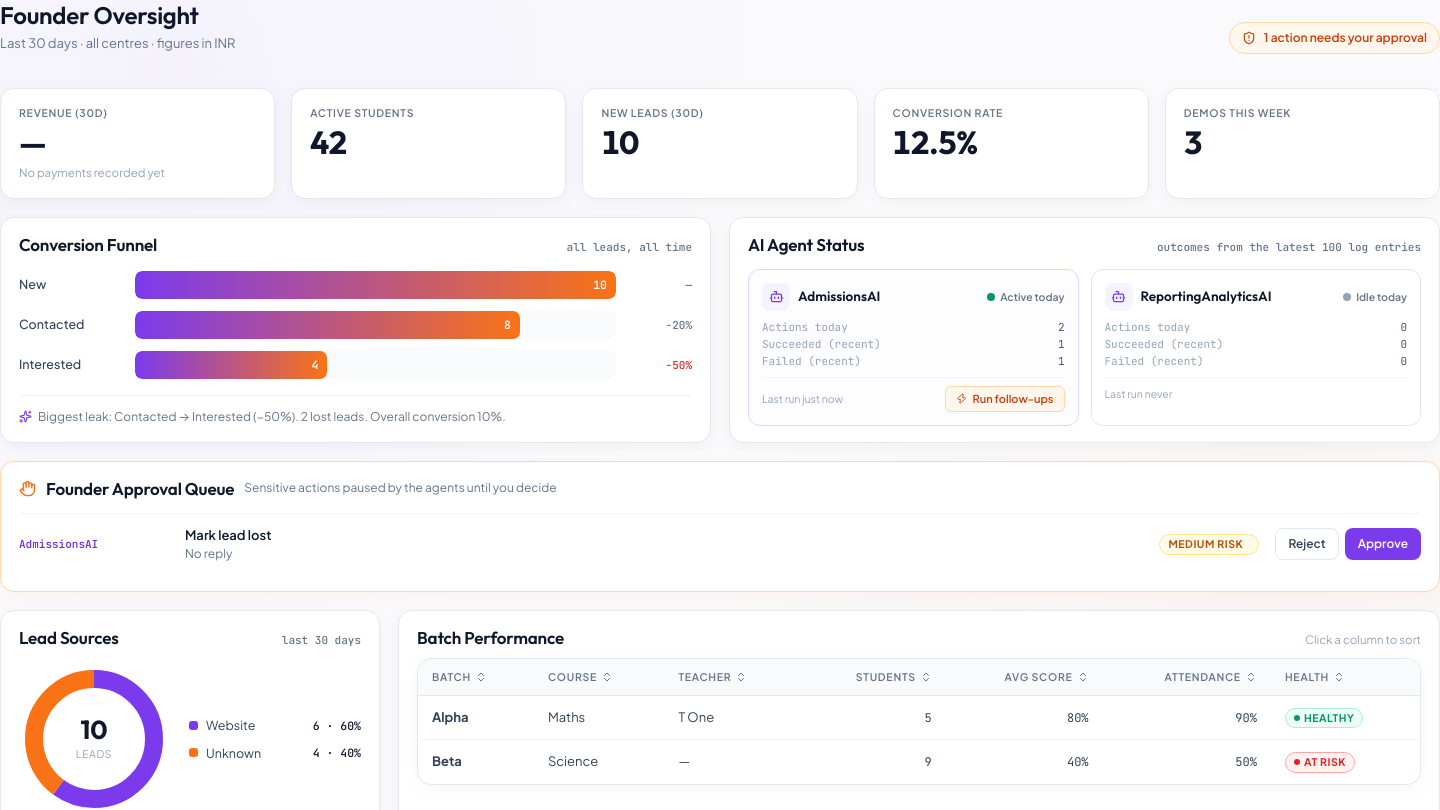
Test: OverviewView › surfaces a server failure when the decision errors
Click the button with aria-label "Approve: Mark lead lost" at (1383, 544), box [1345, 528, 1421, 560]
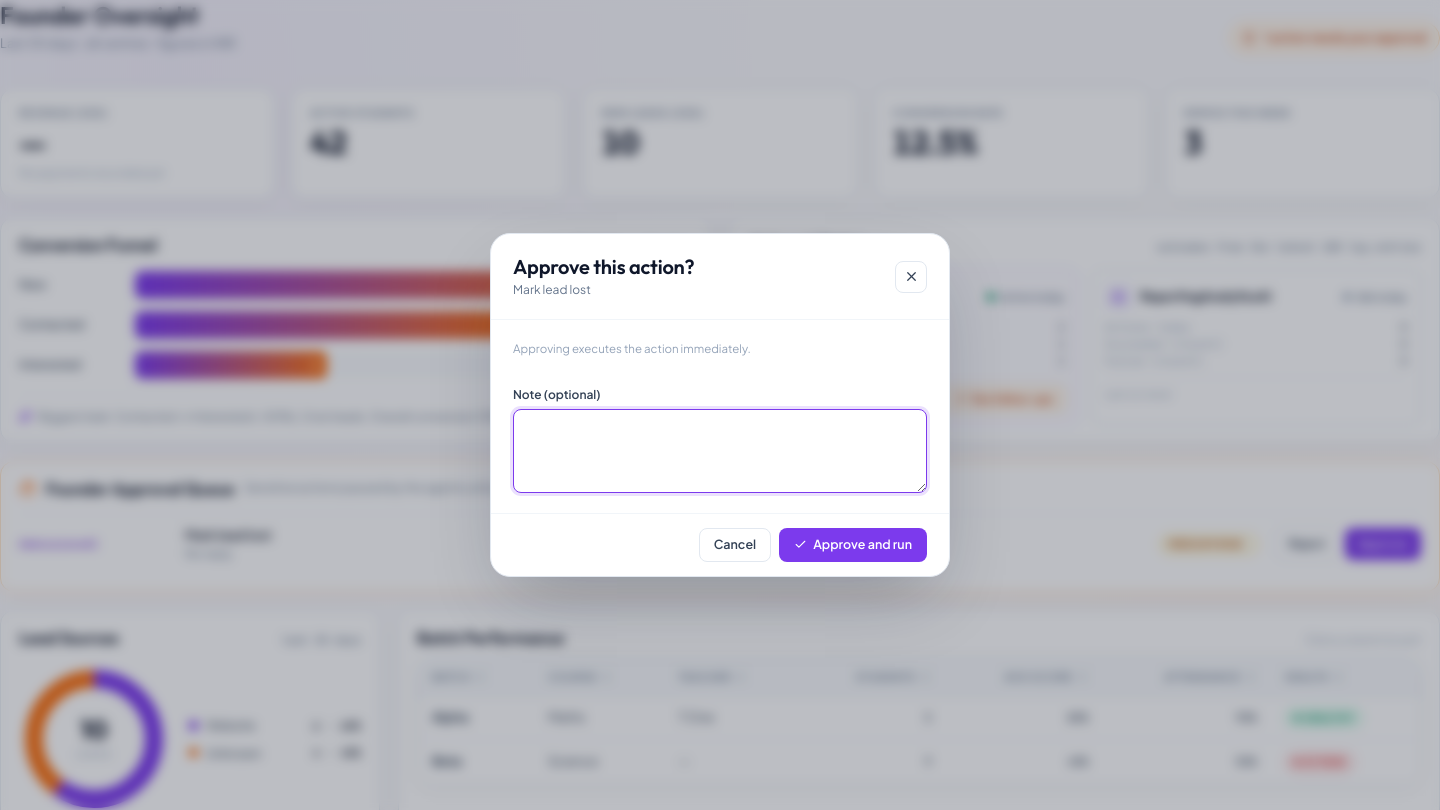
Click the button "Approve and run" at (853, 545), box [779, 528, 927, 562]
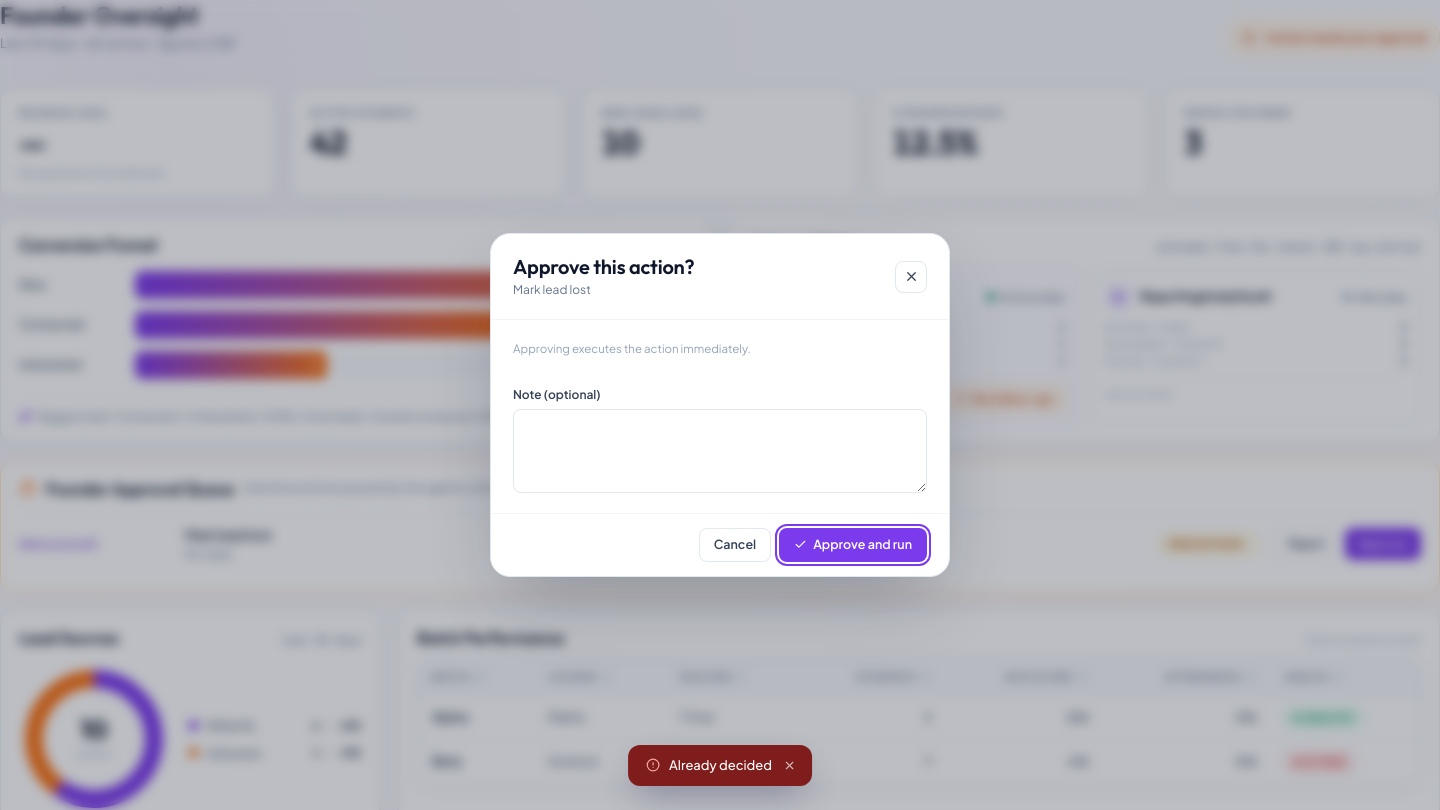
Expected: the text "Already decided" is shown, [628, 744, 812, 786]
